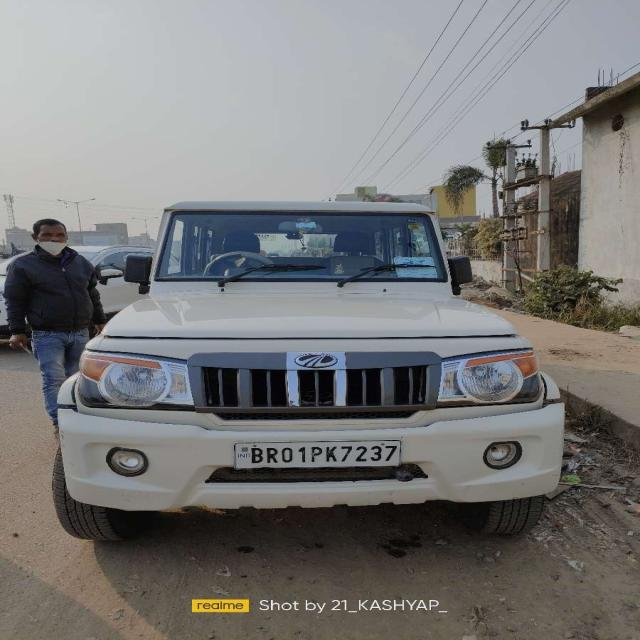light_vehicle: (58, 195, 564, 515)
